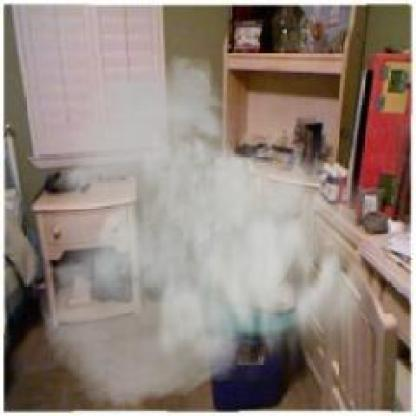Smoke: (37, 50, 388, 414)
